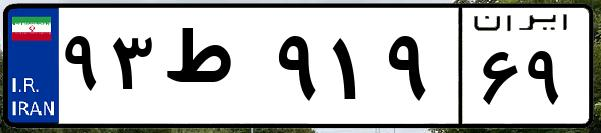1: (330, 28, 385, 110)
3: (110, 28, 158, 98)
6: (475, 38, 525, 113)
9: (270, 28, 330, 110), (385, 28, 445, 110), (57, 26, 110, 100), (525, 38, 570, 115)
ط: (158, 20, 270, 120)
